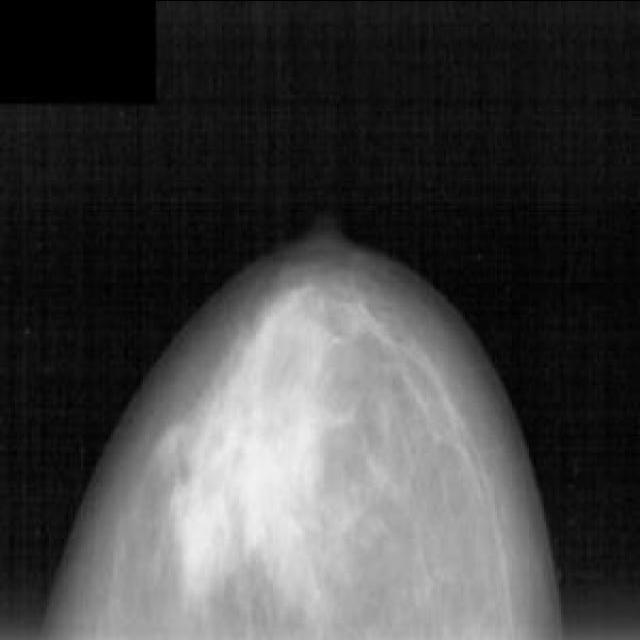tumor: (150, 380, 349, 596)
